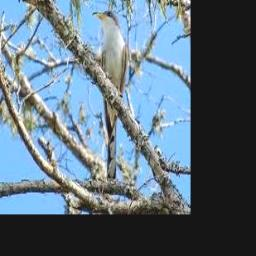Cuckoo: (94, 10, 128, 185)
